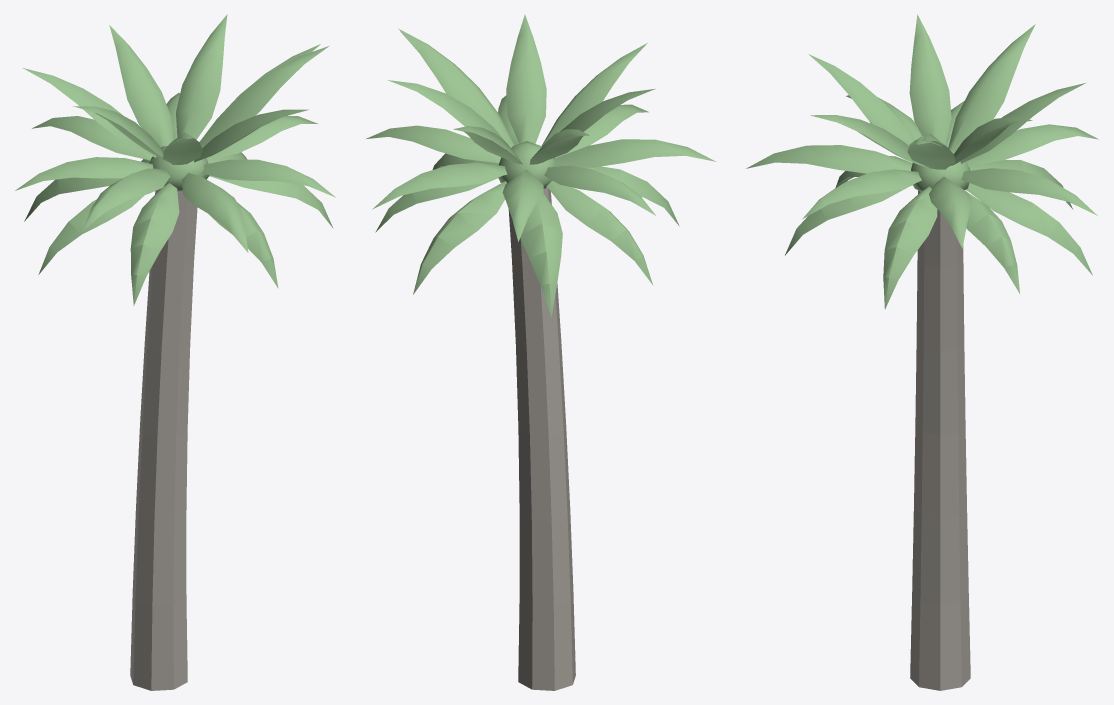
File: tree-palm-date-b.glb
3 renders of one model, left to right at view 1: azimuth 30°, elevation 25°; view 2: azimuth 150°, elevation 25°; view 3: azimuth 270°, elevation 25°, orthographic.
Visible parts, largest first — view 1: tree-palm-date-b; view 2: tree-palm-date-b; view 3: tree-palm-date-b.
Part boxes in pixels (x1,y1,x2,y2): tree-palm-date-b: (15, 14, 335, 690); tree-palm-date-b: (366, 14, 716, 690); tree-palm-date-b: (746, 14, 1098, 690).
Bounding box in the file's own units: 0.5159 × 1 × 0.5219.
